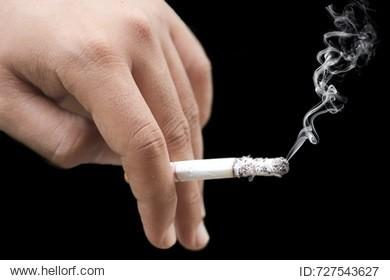Cigarette: (122, 157, 292, 182)
Smoke: (290, 8, 368, 156)
